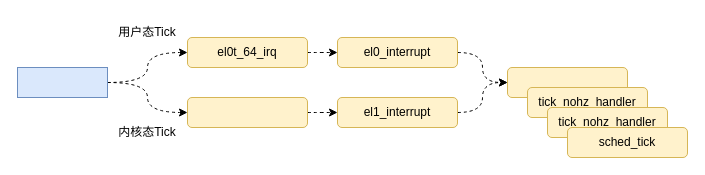
This 705x175 diagram has some shape labels left out. The box of each missing label's shape, as (x1, y1, x2, y2) in pixels:
el1h_64_irq: (186, 96, 308, 128)
hrtimer_interrupt: (506, 66, 628, 98)
timer interrupt: (16, 66, 108, 98)
